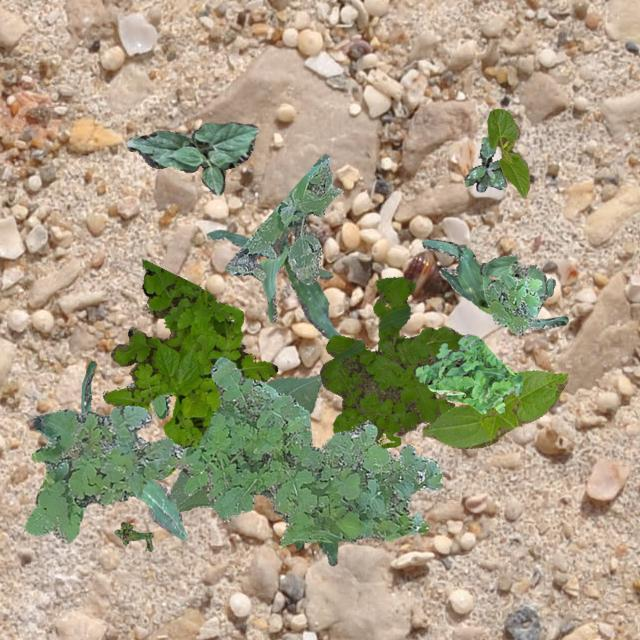crop: (168, 372, 320, 510), (80, 360, 186, 540), (205, 228, 338, 338), (422, 238, 568, 328), (422, 368, 566, 448), (124, 122, 256, 194), (486, 108, 528, 198), (478, 252, 546, 296)
weed: (170, 356, 442, 546), (102, 258, 276, 474), (318, 276, 462, 440), (24, 404, 182, 542), (224, 152, 340, 284), (412, 332, 520, 412), (379, 398, 454, 448), (484, 274, 540, 334), (464, 136, 506, 190), (126, 382, 172, 418), (114, 520, 152, 550), (294, 538, 336, 564)
